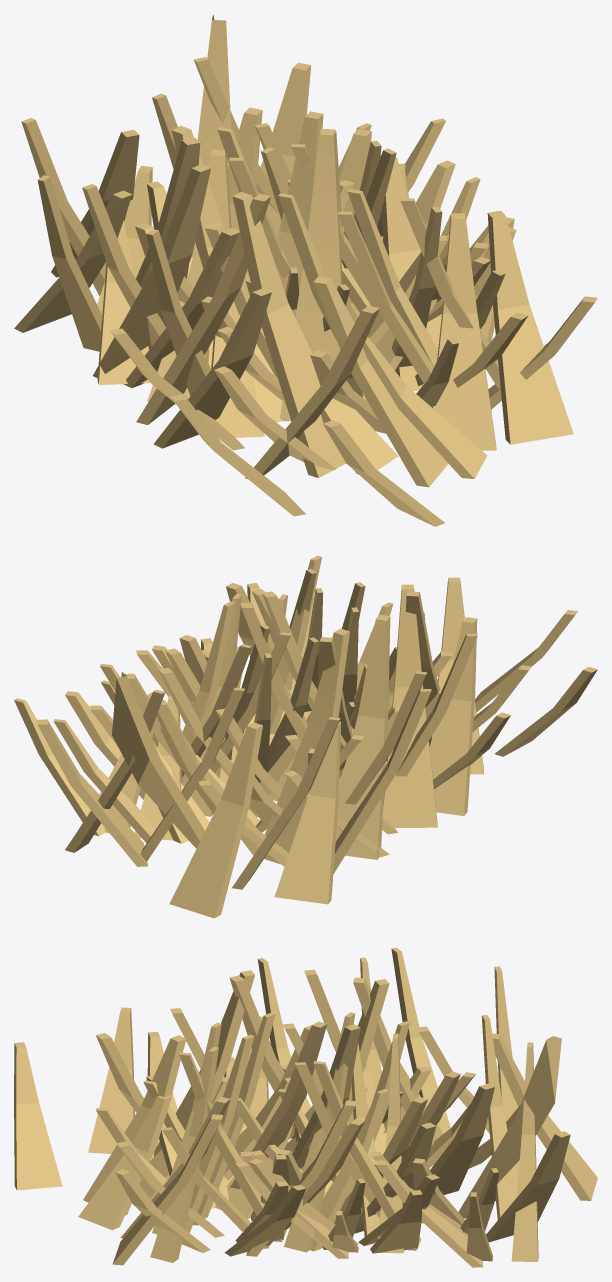
Rendered from grass04.fbx.
3 views of the same model, one above another, from view 1: azimuth 30°, elevation 25°; view 2: azimuth 150°, elevation 25°; view 3: azimuth 270°, elevation 25° (orthographic). The views are drawn at different scales.
Visible parts, largest first — view 1: Plane.081; view 2: Plane.081; view 3: Plane.081.
Part boxes in pixels (x1,y1,x2,y2): Plane.081: [14, 15, 597, 526]; Plane.081: [14, 555, 597, 918]; Plane.081: [14, 947, 597, 1267].
Size of the model in its own units: 0.1832 by 0.0864 by 0.2347.
